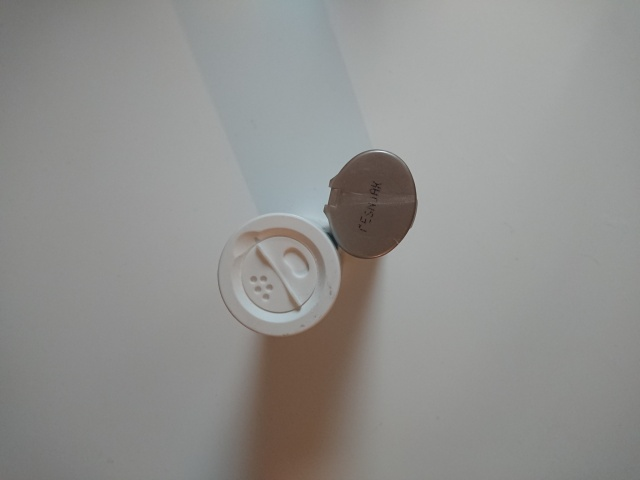Kotanyi Garlic Granules 70g: (321, 147, 421, 262)
Solana Pag Fine Sea Salt 250g: (214, 208, 344, 340)
